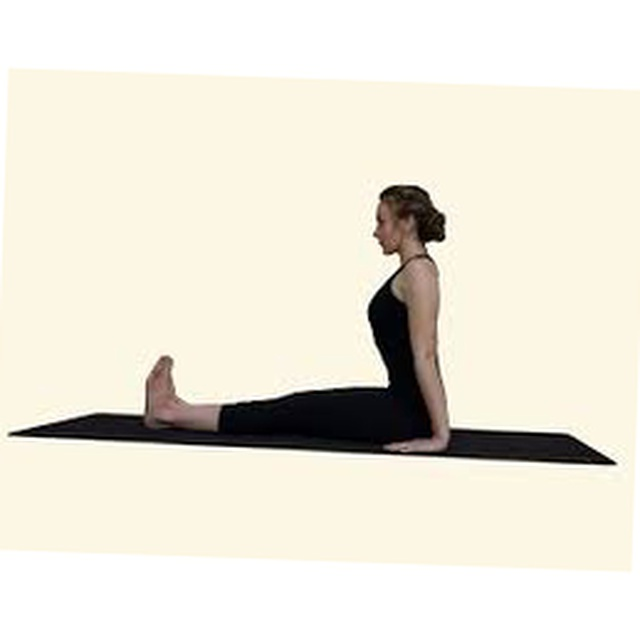Staff_Pose: (143, 184, 452, 452)
